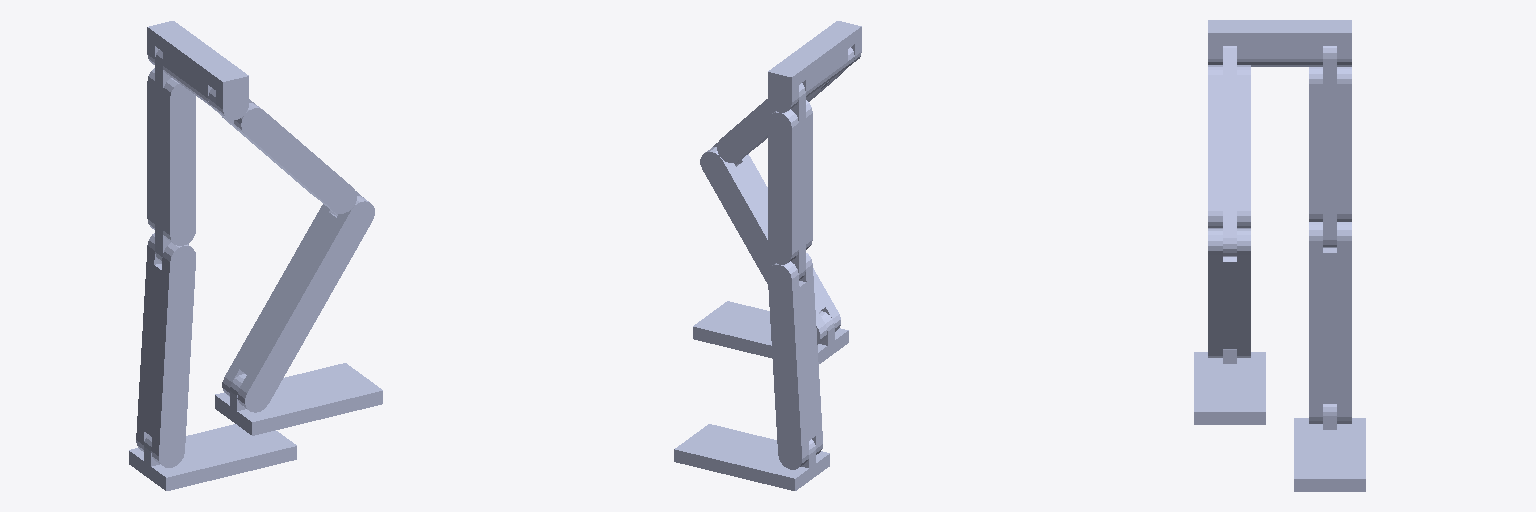
robot.urdf — Legged_robot:
<robot name="Legged_robot">
  <link
    name="hip">
    <mujoco>
      <site name="com_site" type="sphere" size="0.005" rgba="1 0 0 0.5" pos="0 0 0"/>
    </mujoco>
    <inertial>
      <origin
        xyz="-0.00564830078198353 0.0349469887099489 0.00646542786747288"
        rpy="0 0 0" />
      <mass
        value="5.01371669411541E-05" />
      <inertia
        ixx="4.29482473170853E-10"
        ixy="2.95588739100365E-28"
        ixz="-3.12273218868088E-27"
        iyy="4.10766306626453E-10"
        iyz="1.97082982379683E-26"
        izz="4.91957013924296E-11" />
    </inertial>
    <visual>
      <origin
        xyz="0 0 0"
        rpy="0 0 0" />
      <geometry>
        <mesh
          filename="package://Legged_robot/meshes/hip.STL" />
      </geometry>
      <material
        name="">
        <color
          rgba="0.792156862745098 0.819607843137255 0.933333333333333 1" />
      </material>
    </visual>
    <collision>
      <origin
        xyz="0 0 0"
        rpy="0 0 0" />
      <geometry>
        <mesh
          filename="package://Legged_robot/meshes/hip.STL" />
      </geometry>
    </collision>
  </link>
  <link
    name="link_2_1">
    <inertial>
      <origin
        xyz="0 -0.007 0.0015"
        rpy="0 0 0" />
      <mass
        value="7.58539816339745E-05" />
      <inertia
        ixx="1.12491102285555E-09"
        ixy="7.10858338912758E-26"
        ixz="1.21720076523357E-26"
        iyy="7.75290368297784E-11"
        iyz="8.60440399356178E-27"
        izz="1.09723135879864E-09" />
    </inertial>
    <visual>
      <origin
        xyz="0 0 0"
        rpy="0 0 0" />
      <geometry>
        <mesh
          filename="package://Legged_robot/meshes/link_2_1.STL" />
      </geometry>
      <material
        name="">
        <color
          rgba="0.792156862745098 0.819607843137255 0.933333333333333 1" />
      </material>
    </visual>
    <collision>
      <origin
        xyz="0 0 0"
        rpy="0 0 0" />
      <geometry>
        <mesh
          filename="package://Legged_robot/meshes/link_2_1.STL" />
      </geometry>
    </collision>
  </link>
  <joint
    name="hip_link/_2_1"
    type="revolute">
    <origin
      xyz="-0.0056483 -0.0084654 0.034295"
      rpy="1.5708 -0.75702 0" />
    <parent
      link="hip" />
    <child
      link="link_2_1" />
    <axis
      xyz="0 0 1" />
    <limit
      lower="0"
      upper="0"
      effort="0"
      velocity="0" />
    <motor name="hip_to_link2_1" ctrlrange="-10.0 10.0" />
  </joint>
  <link
    name="link_1_1">
    <inertial>
      <origin
        xyz="5.20417042793042E-18 -0.007 0.0015"
        rpy="0 0 0" />
      <mass
        value="8.78539816339742E-05" />
      <inertia
        ixx="1.69611842160531E-09"
        ixy="5.26681405648998E-25"
        ixz="4.51496037895184E-27"
        iyy="9.79399882072297E-11"
        iyz="-3.07959924106589E-26"
        izz="1.65484970892585E-09" />
    </inertial>
    <visual>
      <origin
        xyz="0 0 0"
        rpy="0 0 0" />
      <geometry>
        <mesh
          filename="package://Legged_robot/meshes/link_1_1.STL" />
      </geometry>
      <material
        name="">
        <color
          rgba="0.792156862745098 0.819607843137255 0.933333333333333 1" />
      </material>
    </visual>
    <collision>
      <origin
        xyz="0 0 0"
        rpy="0 0 0" />
      <geometry>
        <mesh
          filename="package://Legged_robot/meshes/link_1_1.STL" />
      </geometry>
    </collision>
  </link>
  <joint
    name="link_2_1_link_1_1"
    type="revolute">
    <origin
      xyz="0 -0.014 0"
      rpy="0 0 -1.3614" />
    <parent
      link="link_2_1" />
    <child
      link="link_1_1" />
    <axis
      xyz="0 0 1" />
    <limit
      lower="0"
      upper="0"
      effort="0"
      velocity="0" />
    <motor name="link21_to_link11" ctrlrange="-10.0 10.0" />
  </joint>
  <link
    name="foot_1">
    <mujoco>
      <site name="foot1_site" type="sphere" size="0.005" rgba="0 1 0 0.5" pos="0 0 0"/>
    </mujoco>
    <inertial>
      <origin
        xyz="0.00377646695532485 -0.00150811184848213 0.0015"
        rpy="0 0 0" />
      <mass
        value="5.29595525039593E-05" />
      <inertia
        ixx="1.15269420092446E-10"
        ixy="1.5793064359785E-11"
        ixz="3.93928134751848E-27"
        iyy="5.66854901453676E-10"
        iyz="-3.32389131736677E-27"
        izz="4.73297729462129E-10" />
    </inertial>
    <visual>
      <origin
        xyz="0 0 0"
        rpy="0 0 0" />
      <geometry>
        <mesh
          filename="package://Legged_robot/meshes/foot_1.STL" />
      </geometry>
      <material
        name="">
        <color
          rgba="0.792156862745098 0.819607843137255 0.933333333333333 1" />
      </material>
    </visual>
    <collision>
      <origin
        xyz="0 0 0"
        rpy="0 0 0" />
      <geometry>
        <mesh
          filename="package://Legged_robot/meshes/foot_1.STL" />
      </geometry>
    </collision>
  </link>
  <joint
    name="link_1_1_foot_1"
    type="revolute">
    <origin
      xyz="0 -0.014 0"
      rpy="0 0 0.6044" />
    <parent
      link="link_1_1" />
    <child
      link="foot_1" />
    <axis
      xyz="0 0 1" />
    <limit
      lower="0"
      upper="0"
      effort="0"
      velocity="0" />
    <motor name="link11_to_foot1" ctrlrange="-10.0 10.0" />
  </joint>
  <link
    name="link2_2">
    <inertial>
      <origin
        xyz="0 -0.00699999999999999 0.0015"
        rpy="0 0 0" />
      <mass
        value="7.58539816339745E-05" />
      <inertia
        ixx="1.12491102285555E-09"
        ixy="2.98187862400166E-26"
        ixz="7.57569422647246E-28"
        iyy="7.75290368297785E-11"
        iyz="3.70764625453876E-27"
        izz="1.09723135879864E-09" />
    </inertial>
    <visual>
      <origin
        xyz="0 0 0"
        rpy="0 0 0" />
      <geometry>
        <mesh
          filename="package://Legged_robot/meshes/link_2_2.STL" />
      </geometry>
      <material
        name="">
        <color
          rgba="0.792156862745098 0.819607843137255 0.933333333333333 1" />
      </material>
    </visual>
    <collision>
      <origin
        xyz="0 0 0"
        rpy="0 0 0" />
      <geometry>
        <mesh
          filename="package://Legged_robot/meshes/link_2_2.STL" />
      </geometry>
    </collision>
  </link>
  <joint
    name="hip_link_2_2"
    type="revolute">
    <origin
      xyz="-0.0056483 -0.0014654 0.034295"
      rpy="1.5708 0 0" />
    <parent
      link="hip" />
    <child
      link="link2_2" />
    <axis
      xyz="0 0 1" />
    <limit
      lower="0"
      upper="0"
      effort="0"
      velocity="0" />
    <motor name="hip_to_link22" ctrlrange="-10.0 10.0" />
  </joint>
  <link
    name="link_1_2">
    <inertial>
      <origin
        xyz="4.33680868994202E-18 -0.007 0.0015"
        rpy="0 0 0" />
      <mass
        value="8.78539816339742E-05" />
      <inertia
        ixx="1.69611842160531E-09"
        ixy="3.70373350444886E-25"
        ixz="-5.15888271227709E-27"
        iyy="9.79399882072298E-11"
        iyz="-5.79327766869373E-27"
        izz="1.65484970892585E-09" />
    </inertial>
    <visual>
      <origin
        xyz="0 0 0"
        rpy="0 0 0" />
      <geometry>
        <mesh
          filename="package://Legged_robot/meshes/link_1_2.STL" />
      </geometry>
      <material
        name="">
        <color
          rgba="0.792156862745098 0.819607843137255 0.933333333333333 1" />
      </material>
    </visual>
    <collision>
      <origin
        xyz="0 0 0"
        rpy="0 0 0" />
      <geometry>
        <mesh
          filename="package://Legged_robot/meshes/link_1_2.STL" />
      </geometry>
    </collision>
  </link>
  <joint
    name="link_2_2_link_1_2"
    type="revolute">
    <origin
      xyz="0 -0.014 0"
      rpy="0 0 -0.061771" />
    <parent
      link="link2_2" />
    <child
      link="link_1_2" />
    <axis
      xyz="0 0 1" />
    <limit
      lower="0"
      upper="0"
      effort="0"
      velocity="0" />
    <motor name="link22_to_link12" ctrlrange="-10.0 10.0" />
  </joint>
  <link
    name="foot_2">
    <mujoco>
      <site name="foot2_site" type="sphere" size="0.005" rgba="0 0 1 0.5" pos="0 0 0"/>
    </mujoco>
    <inertial>
      <origin
        xyz="0.00377646695532497 -0.001508111848482 0.0015"
        rpy="0 0 0" />
      <mass
        value="5.29595525039593E-05" />
      <inertia
        ixx="1.15269420092446E-10"
        ixy="1.5793064359785E-11"
        ixz="9.59697969000011E-28"
        iyy="5.66854901453677E-10"
        iyz="-2.97525851487859E-27"
        izz="4.7329772946213E-10" />
    </inertial>
    <visual>
      <origin
        xyz="0 0 0"
        rpy="0 0 0" />
      <geometry>
        <mesh
          filename="package://Legged_robot/meshes/foot_2.STL" />
      </geometry>
      <material
        name="">
        <color
          rgba="0.792156862745098 0.819607843137255 0.933333333333333 1" />
      </material>
    </visual>
    <collision>
      <origin
        xyz="0 0 0"
        rpy="0 0 0" />
      <geometry>
        <mesh
          filename="package://Legged_robot/meshes/foot_2.STL" />
      </geometry>
    </collision>
  </link>
  <joint
    name="link_1_2_foot_2"
    type="revolute">
    <origin
      xyz="0 -0.014 0"
      rpy="0 0 0.061771" />
    <parent
      link="link_1_2" />
    <child
      link="foot_2" />
    <axis
      xyz="0 0 1" />
    <limit
      lower="0"
      upper="0"
      effort="0"
      velocity="0" />
    <motor name="link12_to_foot2" ctrlrange="-10.0 10.0" />
  </joint> 
</robot>

--- What the picture shows (computed from the rendered views, not written in the file) ---
The picture shows the robot from 3 angles, left to right: view 1: azimuth 30°, elevation 25°; view 2: azimuth 150°, elevation 25°; view 3: azimuth 270°, elevation 25°; orthographic projection.
Robot: Legged_robot — 7 links, 6 joints (6 revolute); root link hip; default pose: every joint at zero.
Visible links, largest first — view 1: link_1_1, link_1_2, link2_2, foot_1, foot_2, hip, link_2_1; view 2: link_1_2, link2_2, foot_2, link_1_1, hip, foot_1, link_2_1; view 3: link_1_2, link_2_1, link2_2, hip, foot_2, foot_1, link_1_1.
Link boxes in pixels (x1,y1,x2,y2): link_1_1: (222, 196, 374, 412); link_1_2: (136, 233, 195, 467); link2_2: (147, 49, 195, 262); foot_1: (215, 363, 382, 435); foot_2: (129, 424, 296, 490); hip: (147, 21, 248, 120); link_2_1: (208, 88, 363, 215); link_1_2: (768, 253, 822, 469); link2_2: (768, 83, 812, 279); foot_2: (674, 424, 829, 490); link_1_1: (700, 147, 840, 344); hip: (768, 21, 861, 112); foot_1: (693, 301, 848, 363); link_2_1: (713, 47, 854, 164); link_1_2: (1309, 222, 1351, 423); link_2_1: (1208, 46, 1250, 256); link2_2: (1309, 46, 1351, 247); hip: (1208, 20, 1351, 66); foot_2: (1294, 404, 1365, 491); foot_1: (1194, 349, 1265, 424); link_1_1: (1208, 228, 1250, 357).
Size in the robot's own frame: 0.0125 by 0.012 by 0.0321 metres.
7 mesh visuals loaded from 7 distinct referenced files (7 binary STL).